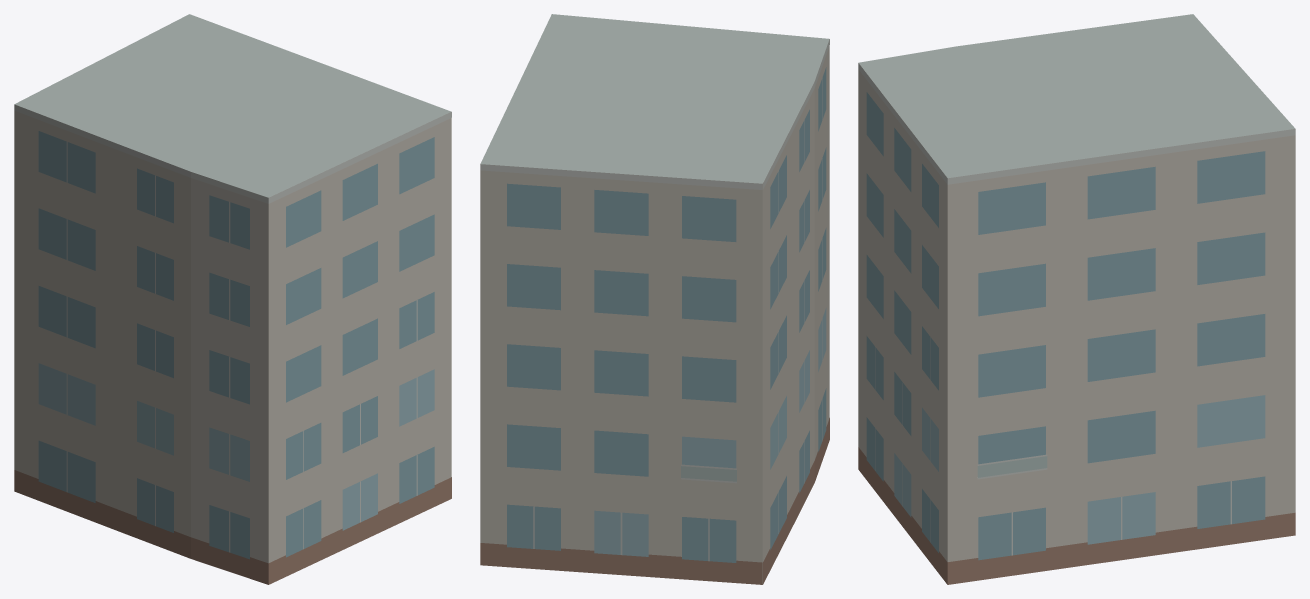
Rendered from survey-upis-32706906.glb.
3 renders of one model, left to right at view 1: azimuth 30°, elevation 25°; view 2: azimuth 150°, elevation 25°; view 3: azimuth 270°, elevation 25°, orthographic. The views are drawn at different scales.
Visible parts, largest first — view 1: survey-upis-32706906.tmp; view 2: survey-upis-32706906.tmp; view 3: survey-upis-32706906.tmp.
Part boxes in pixels (x1=…): survey-upis-32706906.tmp: x1=14, y1=14, x2=451, y2=584; survey-upis-32706906.tmp: x1=480, y1=14, x2=829, y2=584; survey-upis-32706906.tmp: x1=858, y1=14, x2=1295, y2=584.
Bounding box in the file's own units: 13.36 × 15.4 × 15.02.
